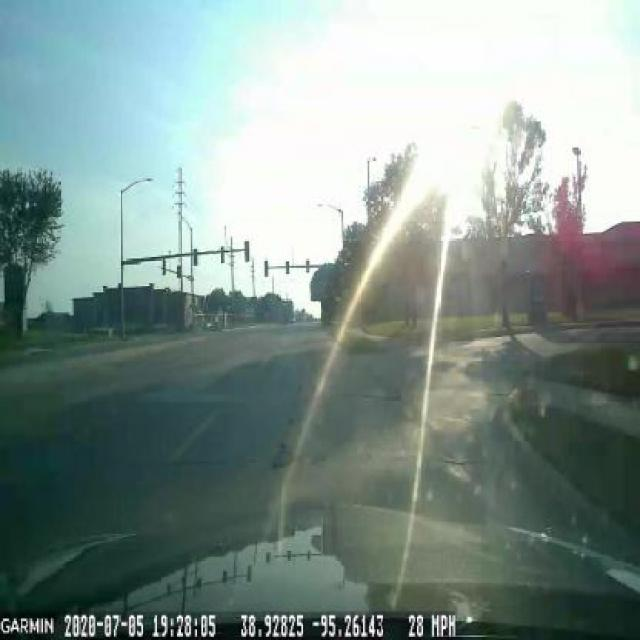Pothole: (266, 436, 297, 476)
